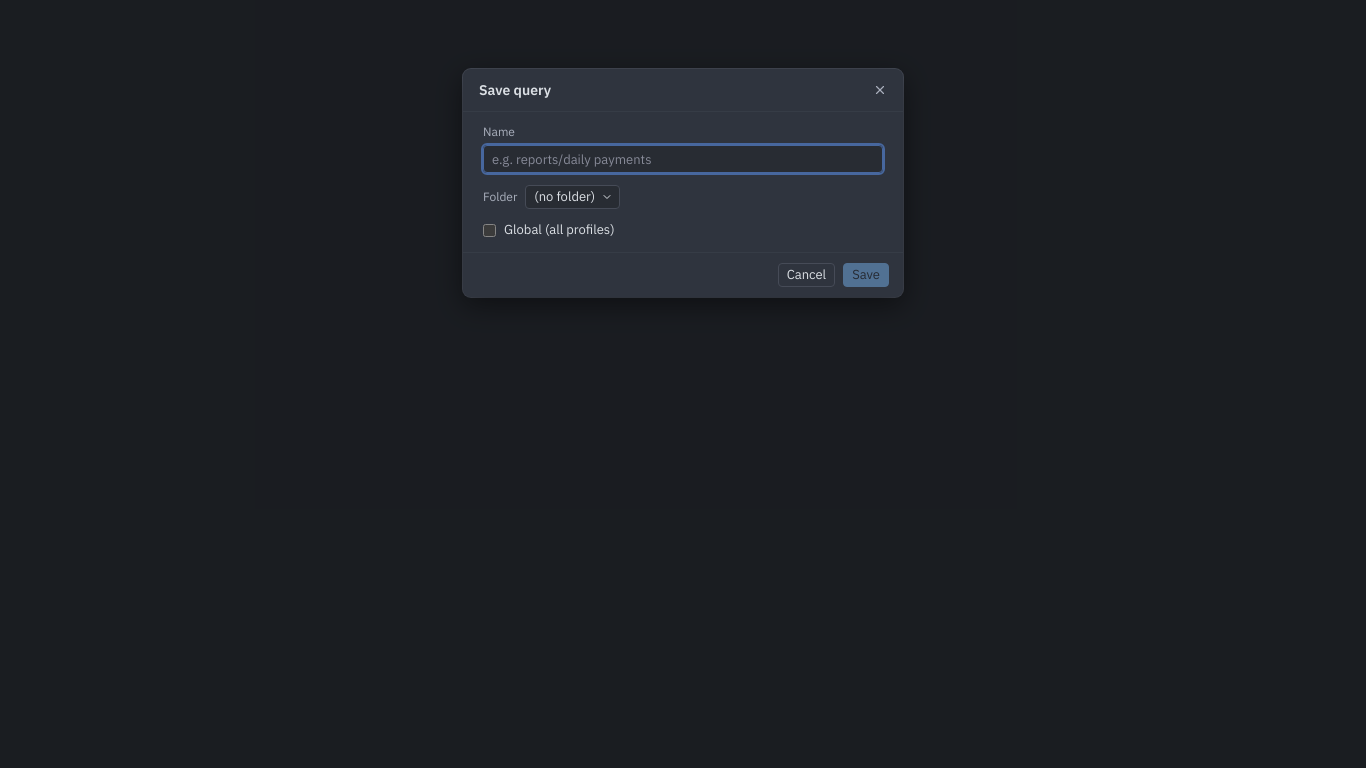
Test: SaveQueryDialog › treats a server query_exists as a duplicate
Type "fresh" into the field labelled "Name". click: [683, 159]
box: [483,145,883,173]
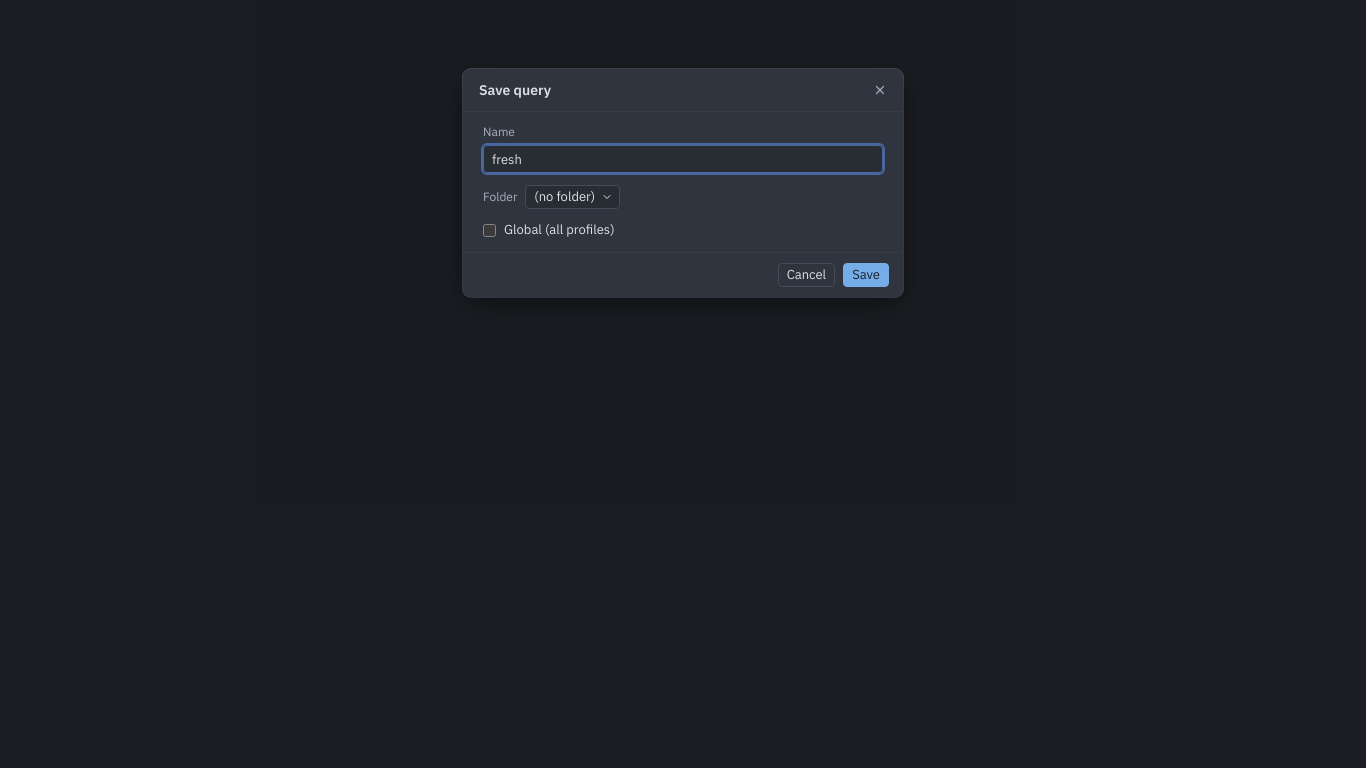
Click the button "Save". click: [866, 275]
box: [843,263,889,287]
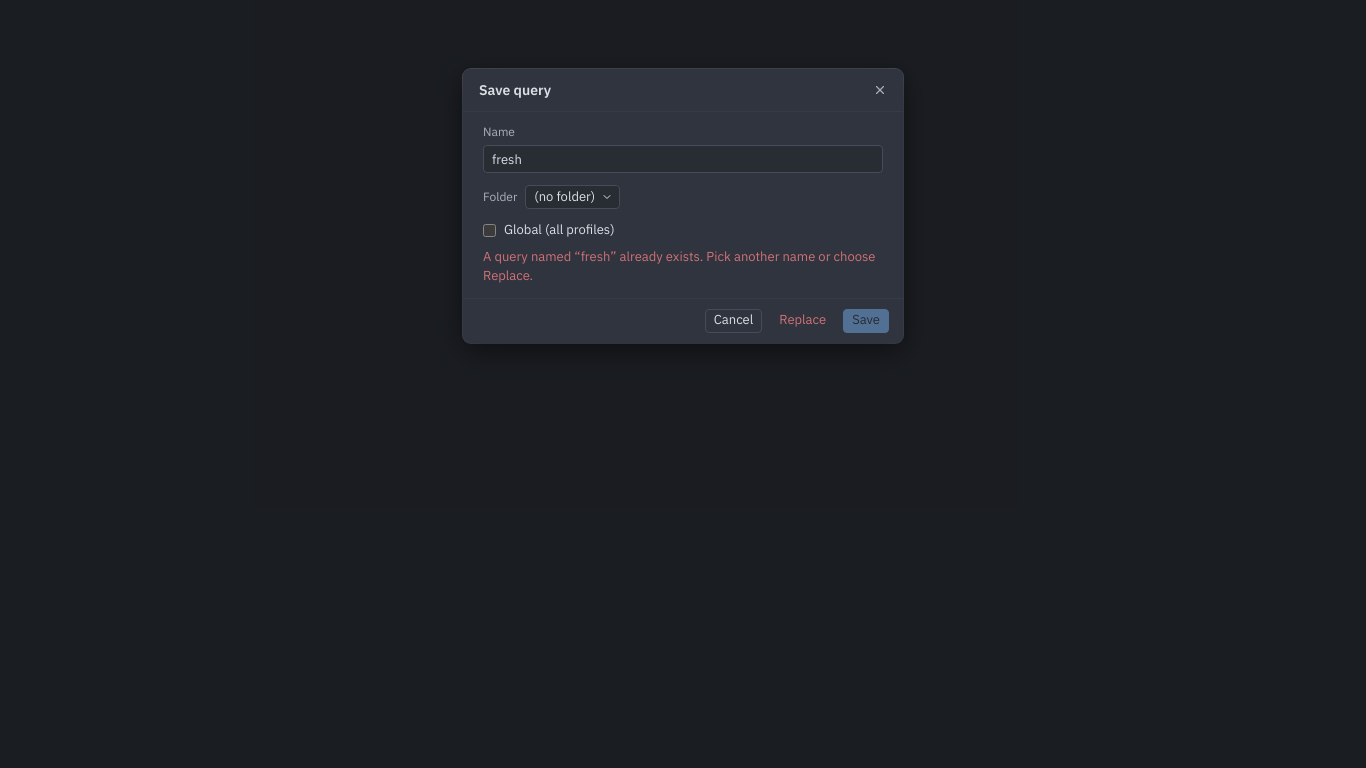
Now the button "Replace" is shown, box [770,309,835,333]
Now the message shows "already exists", box [483,248,875,284]
